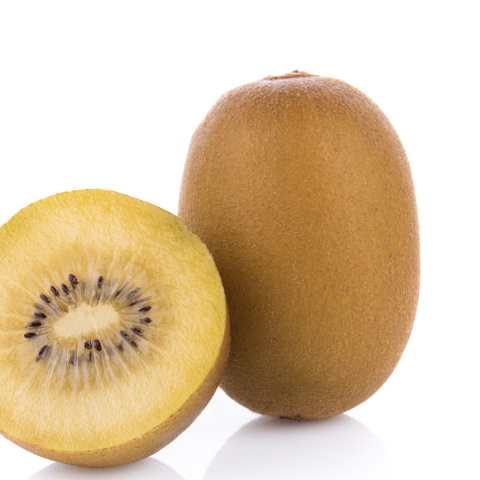kiwi: (137, 56, 466, 461)
